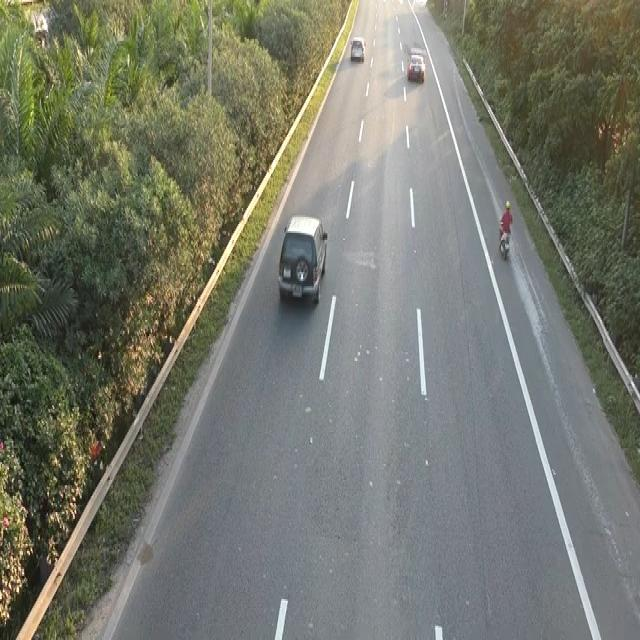car: (276, 210, 328, 306)
minibus: (497, 220, 511, 260)
